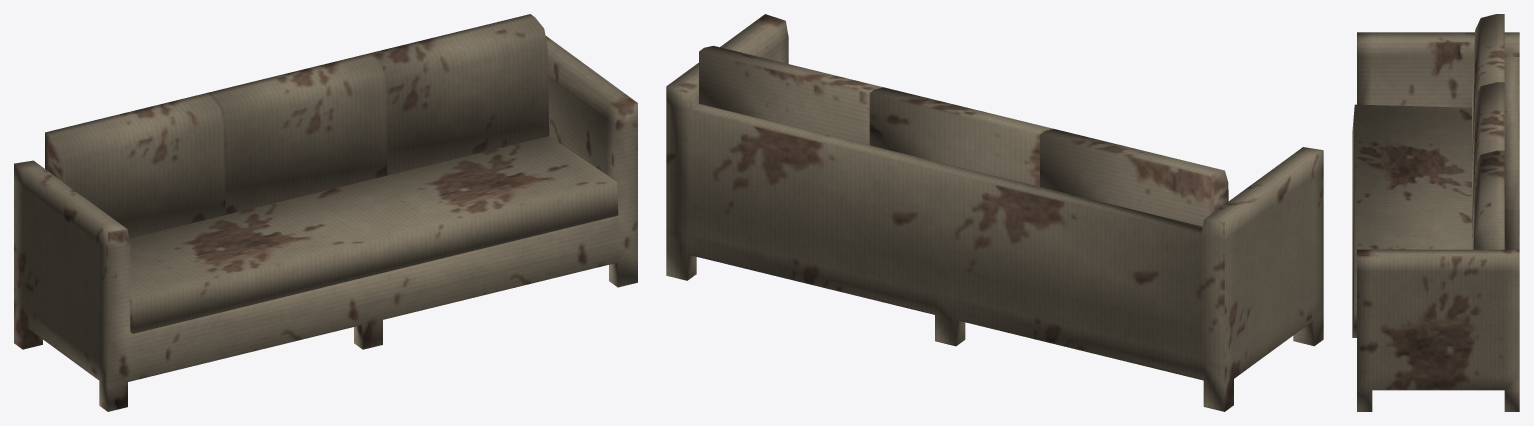
Rendered from cabinet4.glb.
The picture shows the model from 3 angles, left to right: view 1: azimuth 30°, elevation 25°; view 2: azimuth 150°, elevation 25°; view 3: azimuth 270°, elevation 25°; orthographic projection. The views are drawn at different scales.
Visible parts, largest first — view 1: Object_2.004; view 2: Object_2.004; view 3: Object_2.004.
Part boxes in pixels (<box>): Object_2.004: <box>14,14,637,411</box>; Object_2.004: <box>666,14,1323,411</box>; Object_2.004: <box>1352,14,1519,411</box>.
Size of the model in its own units: 2.62 by 1 by 0.8277.
1 material, 1 textured.
